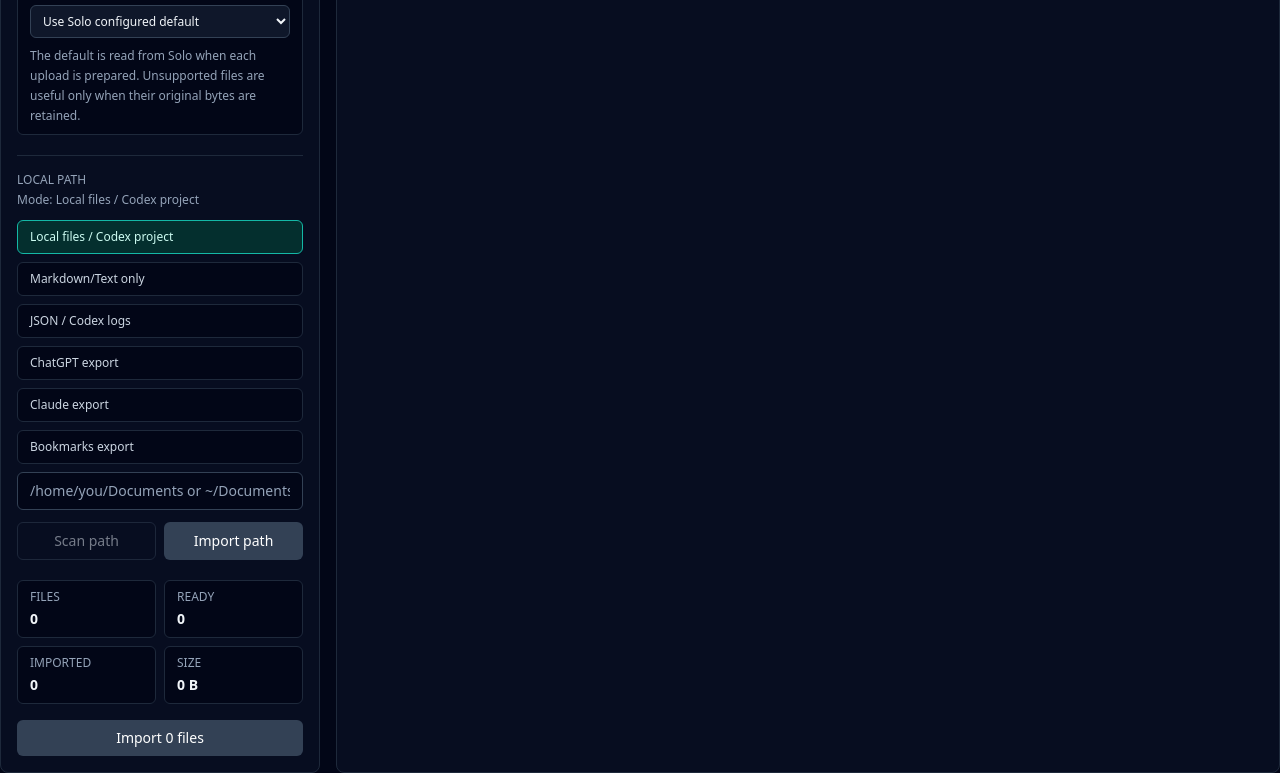
Test case: ImportView › scans and imports a local path through document memory
(page scrolled)
Expected: the text "Mode: Local files / Codex project" is shown, left=17, top=191, right=199, bottom=208
Type "C:\\Notes" into the field labelled "Local path" at x=160, y=491, box left=17, top=472, right=303, bottom=510
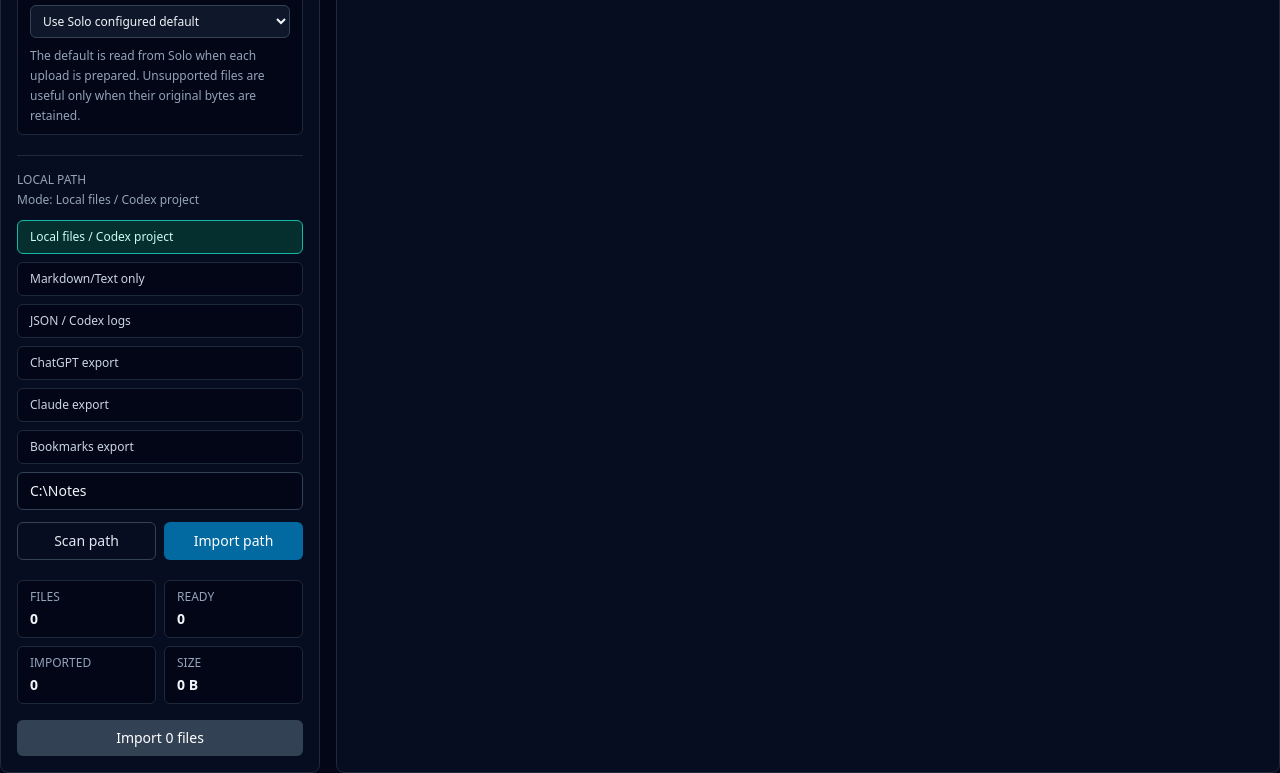
Click the button "Scan path" at x=86, y=541, box left=17, top=522, right=156, bottom=560
(page scrolled)
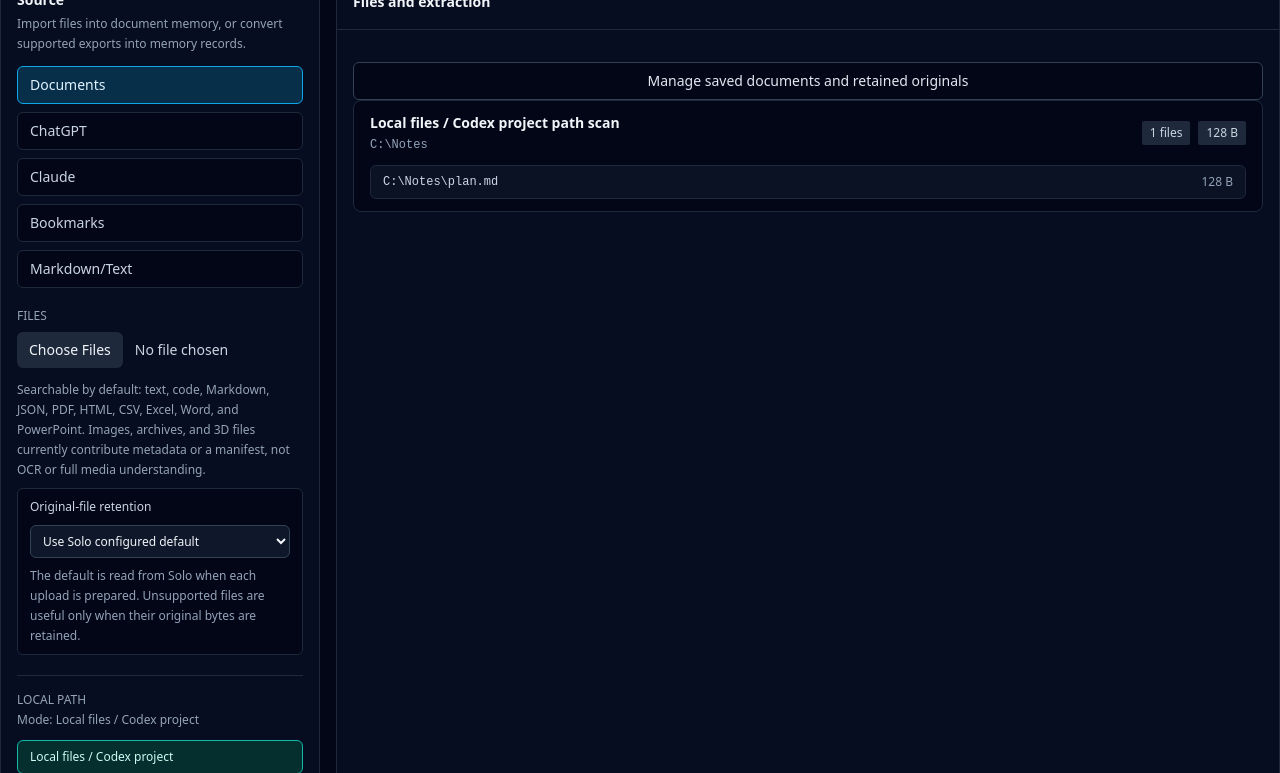
Now the heading "Local files / Codex project path scan" is shown, box left=370, top=113, right=620, bottom=133
Now the text "C:\\Notes\\plan.md" is shown, box left=383, top=175, right=498, bottom=189
Click the button "ChatGPT" at x=58, y=130, box left=17, top=112, right=303, bottom=150
(page scrolled)
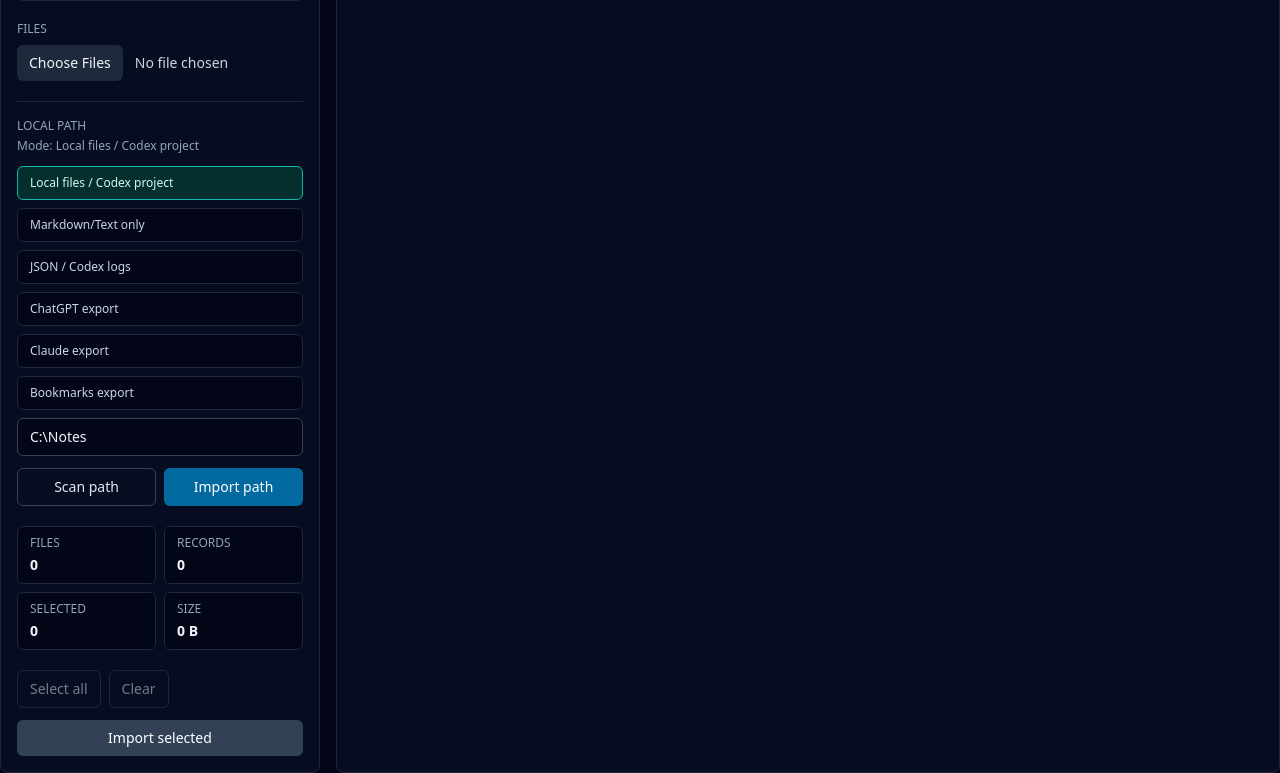
Click the button "Import path" at x=234, y=487, box left=164, top=468, right=303, bottom=506
(page scrolled)
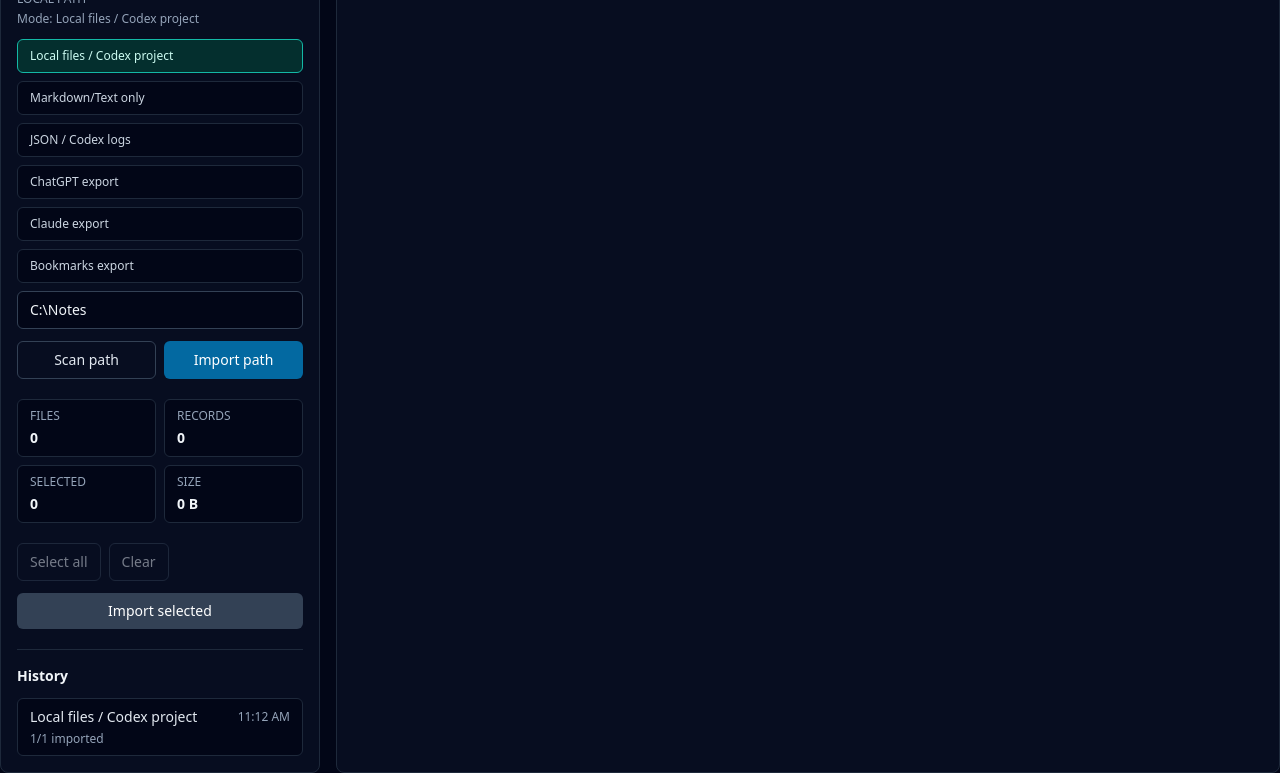
Now the text "1/1 imported" is shown, box left=30, top=730, right=104, bottom=747
